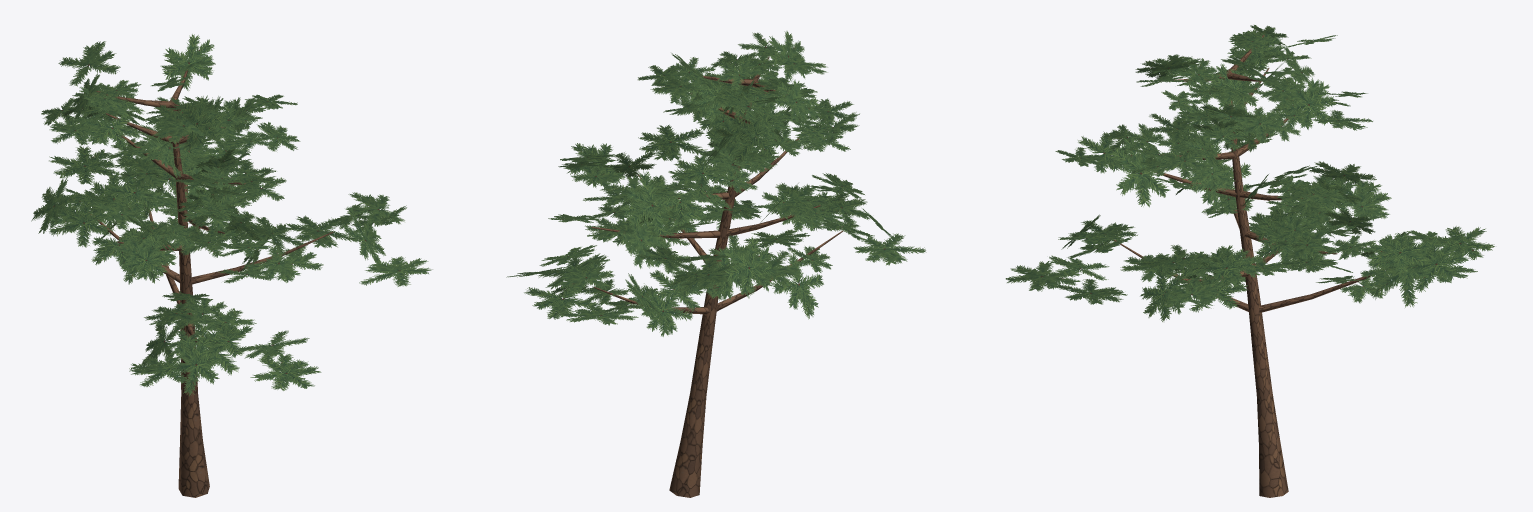
The model's file is Tree_Pine.glb.
The picture shows the model from 3 angles, left to right: view 1: azimuth 30°, elevation 25°; view 2: azimuth 150°, elevation 25°; view 3: azimuth 270°, elevation 25°; orthographic projection. The views are drawn at different scales.
Visible parts, largest first — view 1: Tree_Pine; view 2: Tree_Pine; view 3: Tree_Pine.
Boxes of the visible parts, x1,y1,x2,y2 form: Tree_Pine: [31, 34, 432, 497]; Tree_Pine: [506, 31, 926, 497]; Tree_Pine: [1005, 25, 1494, 497].
Bounding box in the file's own units: 22.09 × 27.38 × 30.17.
Materials: 2 (2 with a texture image).
